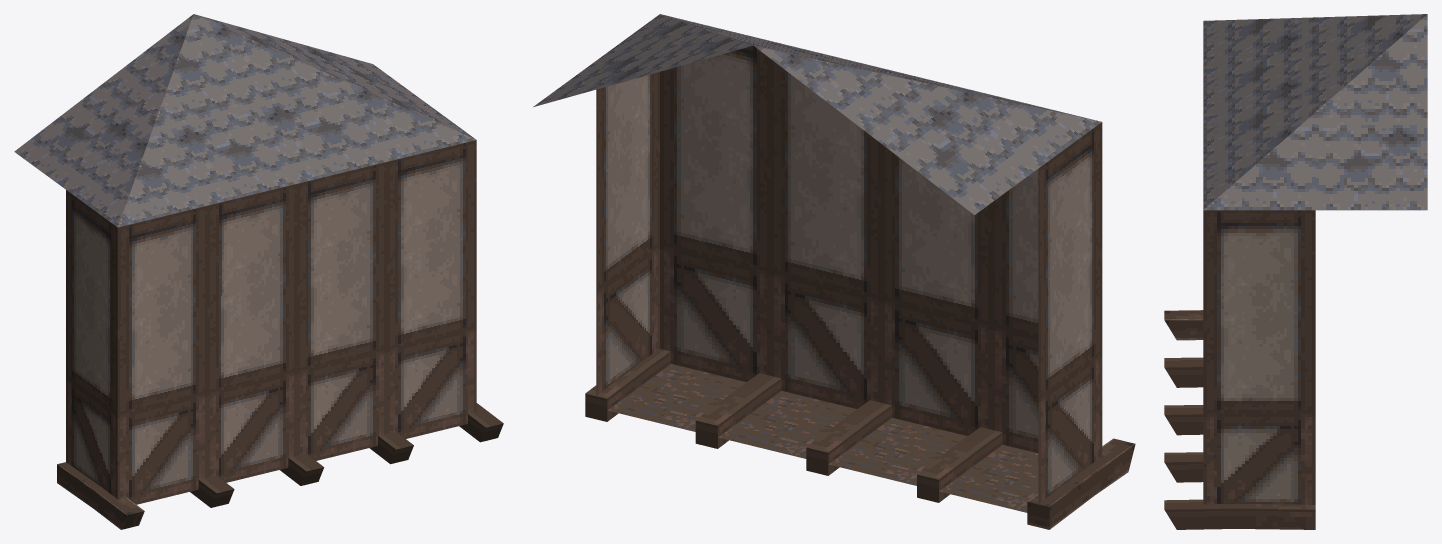
File: roof_blue_stickout_triangle_roof.glb
The picture shows the model from 3 angles, left to right: view 1: azimuth 30°, elevation 25°; view 2: azimuth 150°, elevation 25°; view 3: azimuth 270°, elevation 25°; orthographic projection. The views are drawn at different scales.
Visible parts, largest first — view 1: roof_blue_stickout_triangle_roof; view 2: roof_blue_stickout_triangle_roof; view 3: roof_blue_stickout_triangle_roof.
Part boxes in pixels (x1,y1,x2,y2): roof_blue_stickout_triangle_roof: (14,14,503,529); roof_blue_stickout_triangle_roof: (533,14,1135,529); roof_blue_stickout_triangle_roof: (1164,14,1427,529).
Size of the model in its own units: 5.25 by 5.13 by 2.94.
1 material, 1 textured.
